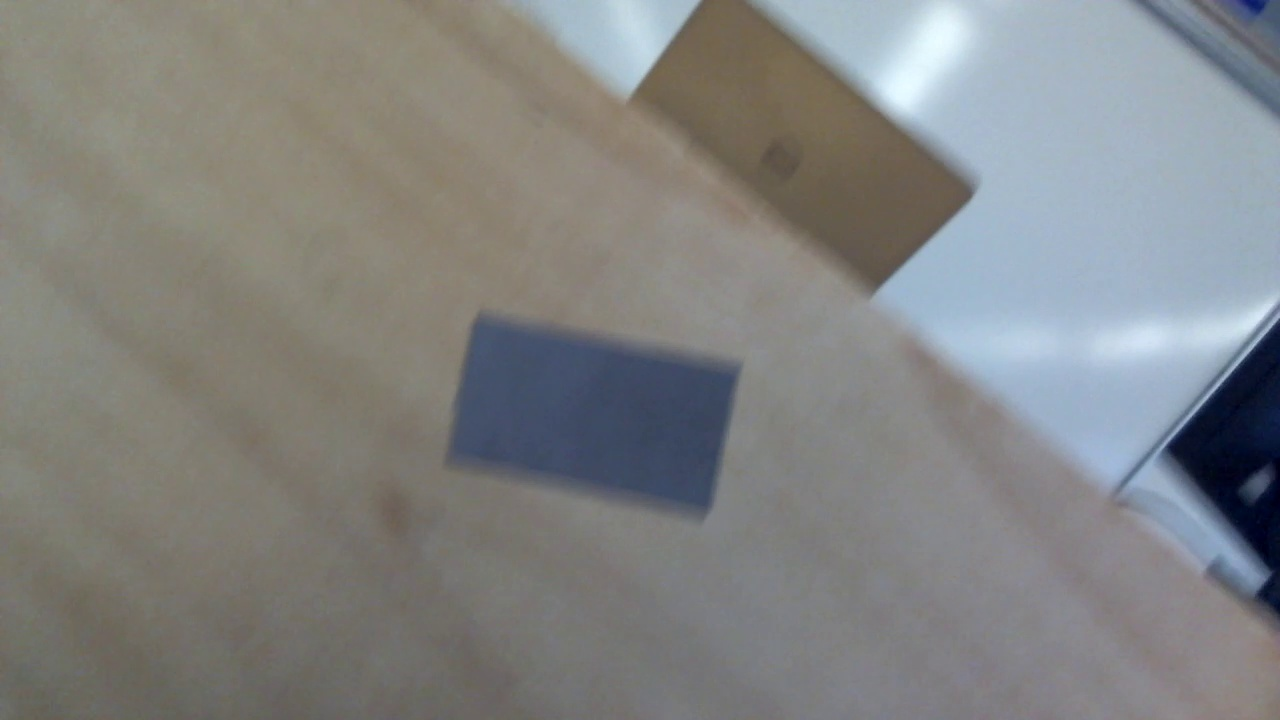Tape: (446, 313, 744, 523)
